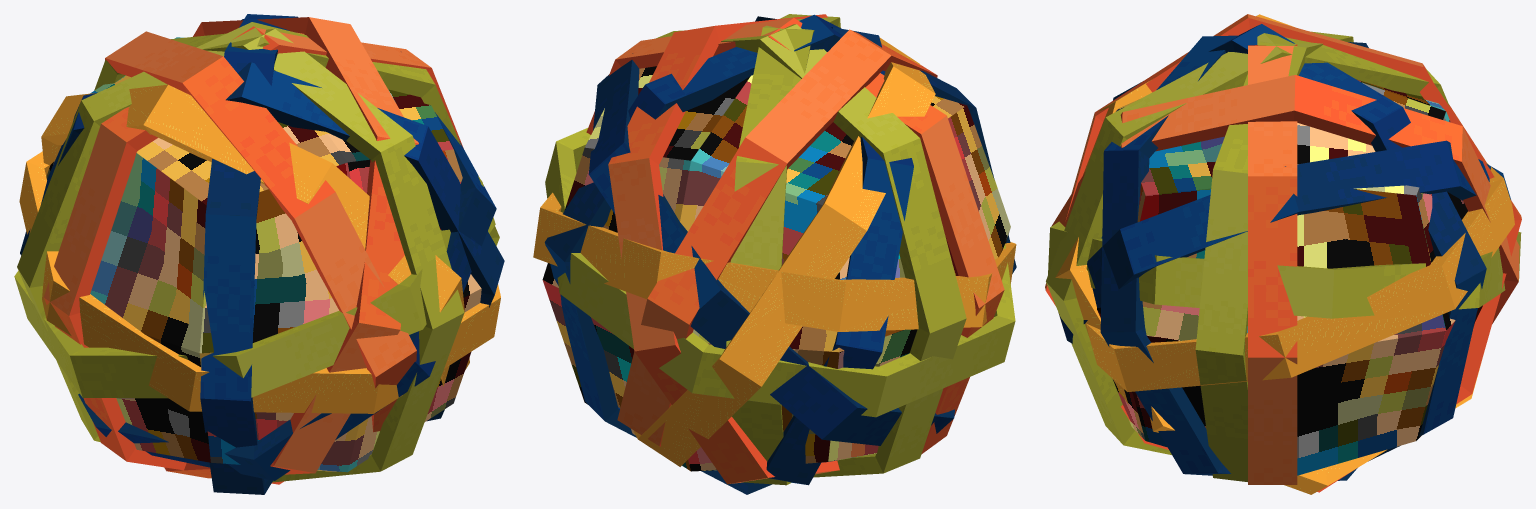
Rendered from elastic_ball.glb.
The picture shows the model from 3 angles, left to right: view 1: azimuth 30°, elevation 25°; view 2: azimuth 150°, elevation 25°; view 3: azimuth 270°, elevation 25°; orthographic projection. The views are drawn at different scales.
Parts seen in each view (by area): view 1: elastic_ball; view 2: elastic_ball; view 3: elastic_ball.
Part boxes in pixels (x1=…): elastic_ball: x1=14, y1=14, x2=504, y2=494; elastic_ball: x1=533, y1=14, x2=1016, y2=494; elastic_ball: x1=1045, y1=14, x2=1521, y2=494.
Bounding box in the file's own units: 0.1244 × 0.1245 × 0.125.
Materials: 1 (1 with a texture image).
